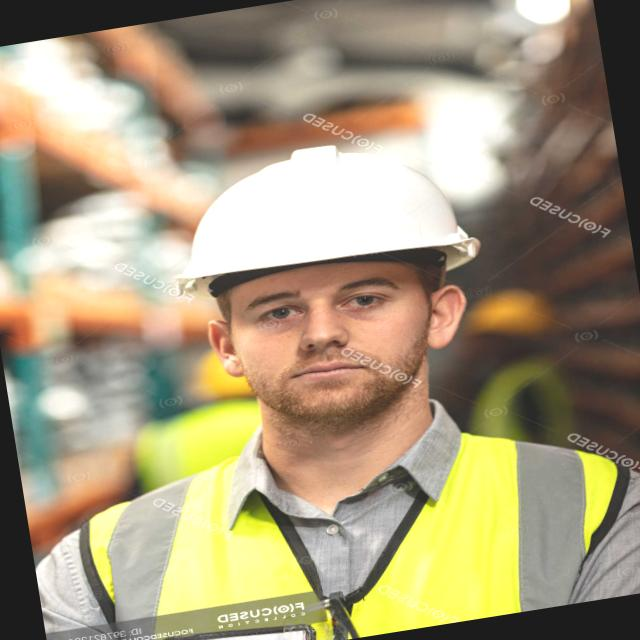helmet: (164, 118, 481, 294)
no-goggles: (206, 260, 449, 352)
vest: (106, 395, 622, 640)
